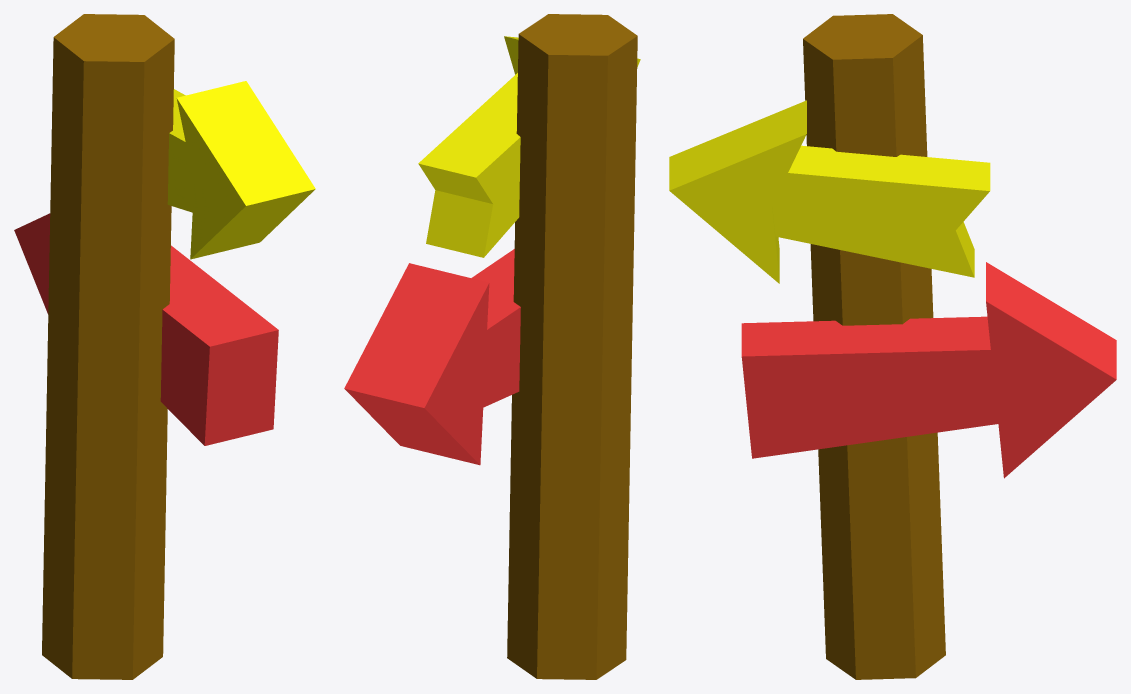
The model's file is placa1.fbx.
3 views of the same model, side by side, from view 1: azimuth 30°, elevation 25°; view 2: azimuth 150°, elevation 25°; view 3: azimuth 270°, elevation 25° (orthographic).
Parts seen in each view (by area): view 1: placaDois; view 2: placaDois; view 3: placaDois.
Part boxes in pixels (box(x1,y1,x2,y2)): placaDois: box(14, 14, 315, 679); placaDois: box(344, 14, 640, 679); placaDois: box(669, 14, 1116, 679).
Bounding box in the file's own units: 21.76 × 84.4 × 54.88.
